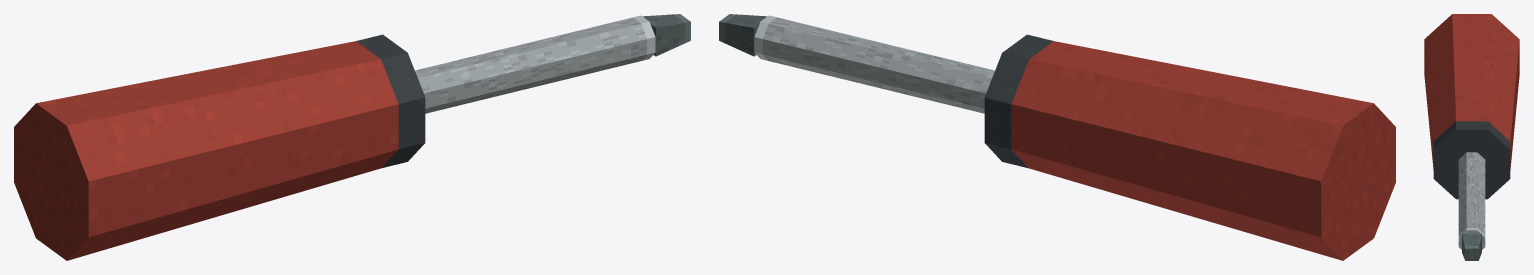
The model's file is screwdriver.glb.
3 views of the same model, side by side, from view 1: azimuth 30°, elevation 25°; view 2: azimuth 150°, elevation 25°; view 3: azimuth 270°, elevation 25° (orthographic). The views are drawn at different scales.
Parts seen in each view (by area): view 1: block_fluted red handle, block_steel shaft, block_rubber neck, block_cross tip; view 2: block_fluted red handle, block_steel shaft, block_rubber neck, block_cross tip; view 3: block_fluted red handle, block_rubber neck, block_steel shaft, block_cross tip.
Boxes of the visible parts, <box> form: block_fluted red handle: <box>14,41,398,260</box>; block_steel shaft: <box>415,15,655,113</box>; block_rubber neck: <box>356,34,425,168</box>; block_cross tip: <box>643,14,690,56</box>; block_fluted red handle: <box>1011,41,1395,260</box>; block_steel shaft: <box>754,15,994,113</box>; block_rubber neck: <box>984,34,1053,168</box>; block_cross tip: <box>719,14,766,56</box>; block_fluted red handle: <box>1424,14,1519,169</box>; block_rubber neck: <box>1433,121,1510,199</box>; block_steel shaft: <box>1458,152,1485,249</box>; block_cross tip: <box>1462,234,1481,260</box>.
Bounding box in the file's own units: 0.118 × 0.024 × 0.024.
Materials: 1 (1 with a texture image).
